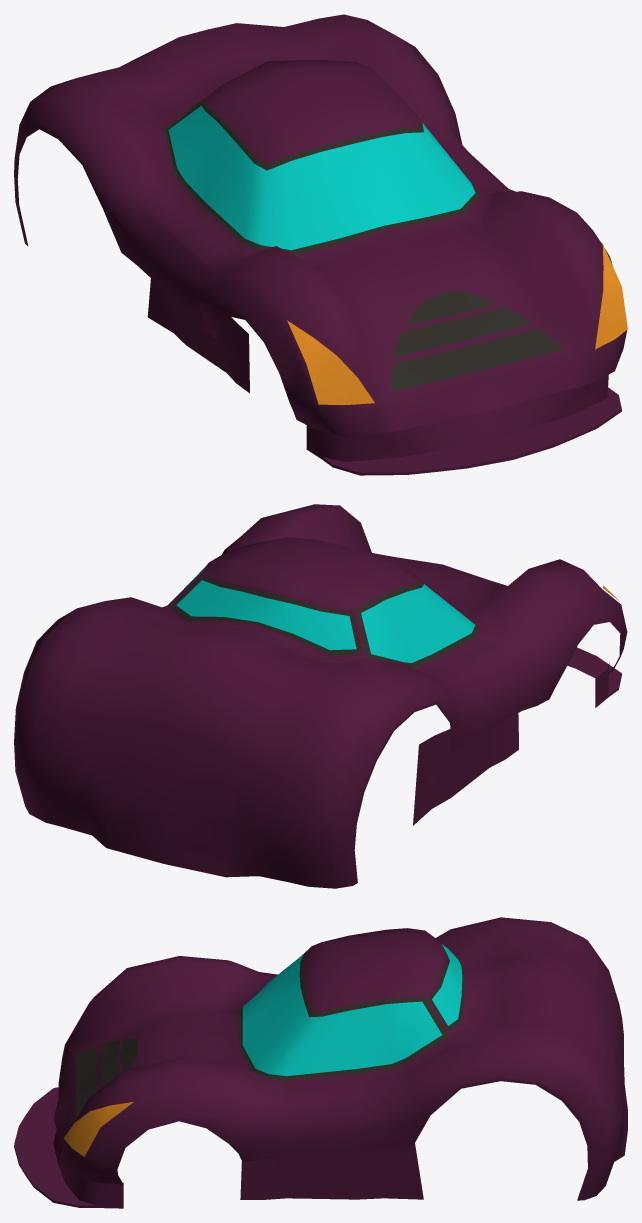
File: LuxCasing01C05.gltf
The picture shows the model from 3 angles, top to bottom: view 1: azimuth 30°, elevation 25°; view 2: azimuth 150°, elevation 25°; view 3: azimuth 270°, elevation 25°; orthographic projection. The views are drawn at different scales.
Parts seen in each view (by area): view 1: LuxCasing01C05; view 2: LuxCasing01C05; view 3: LuxCasing01C05.
Boxes of the visible parts, left/top/right/bottom form: LuxCasing01C05: left=14, top=14, right=627, bottom=475; LuxCasing01C05: left=14, top=504, right=627, bottom=888; LuxCasing01C05: left=14, top=917, right=627, bottom=1208.
Size of the model in its own units: 0.2129 by 0.1281 by 0.3597.
1 material, 1 textured.
